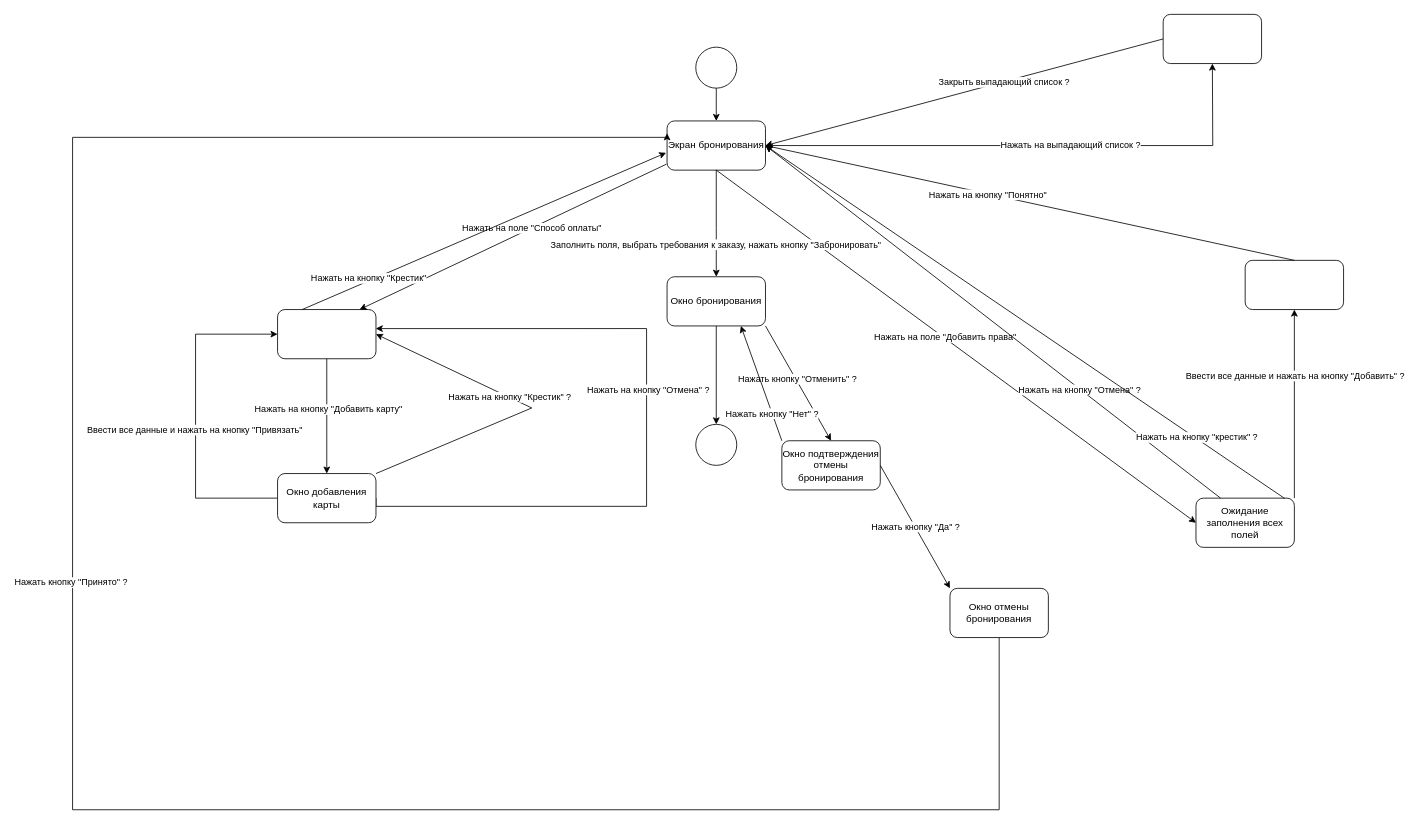
Image size: 1419x831. Some labels were removed from this diagram. The centre of each missing label's shape, as x and y in pixels:
Окно выбора карты: point (326, 334)
Окно с сообщением о проверке данных: point (1294, 285)
Окно Требования к заказу: point (1212, 39)
